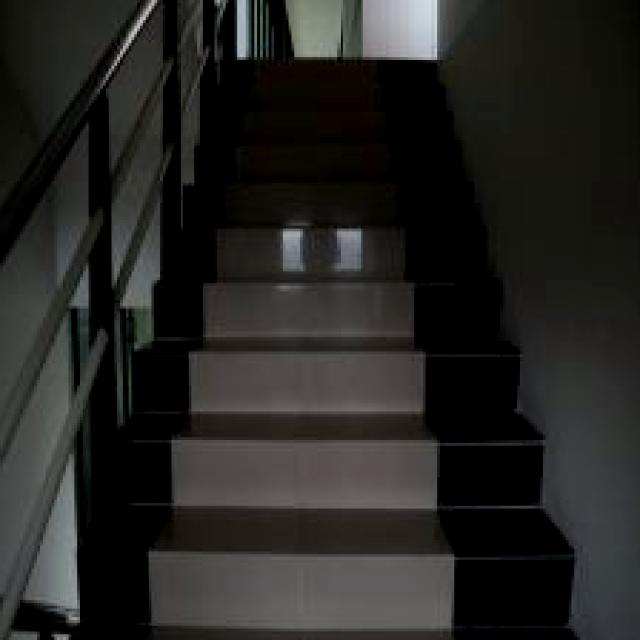upstair: (218, 55, 464, 640)
